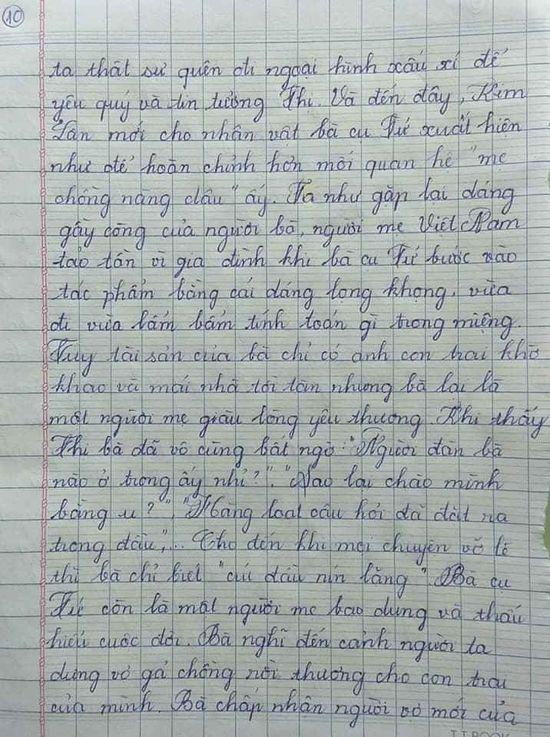text: (56, 205, 530, 253), (47, 588, 526, 634), (47, 335, 542, 379), (50, 685, 521, 731), (52, 80, 528, 125), (53, 175, 518, 221), (47, 491, 512, 537), (47, 45, 511, 91), (48, 425, 505, 471), (46, 654, 509, 699), (47, 557, 514, 601), (42, 620, 495, 665), (47, 525, 515, 567), (50, 461, 507, 504), (48, 273, 515, 315), (48, 401, 549, 440), (48, 305, 523, 345), (52, 241, 518, 281), (47, 142, 509, 181), (49, 108, 524, 145), (49, 368, 505, 406), (4, 6, 25, 27)
